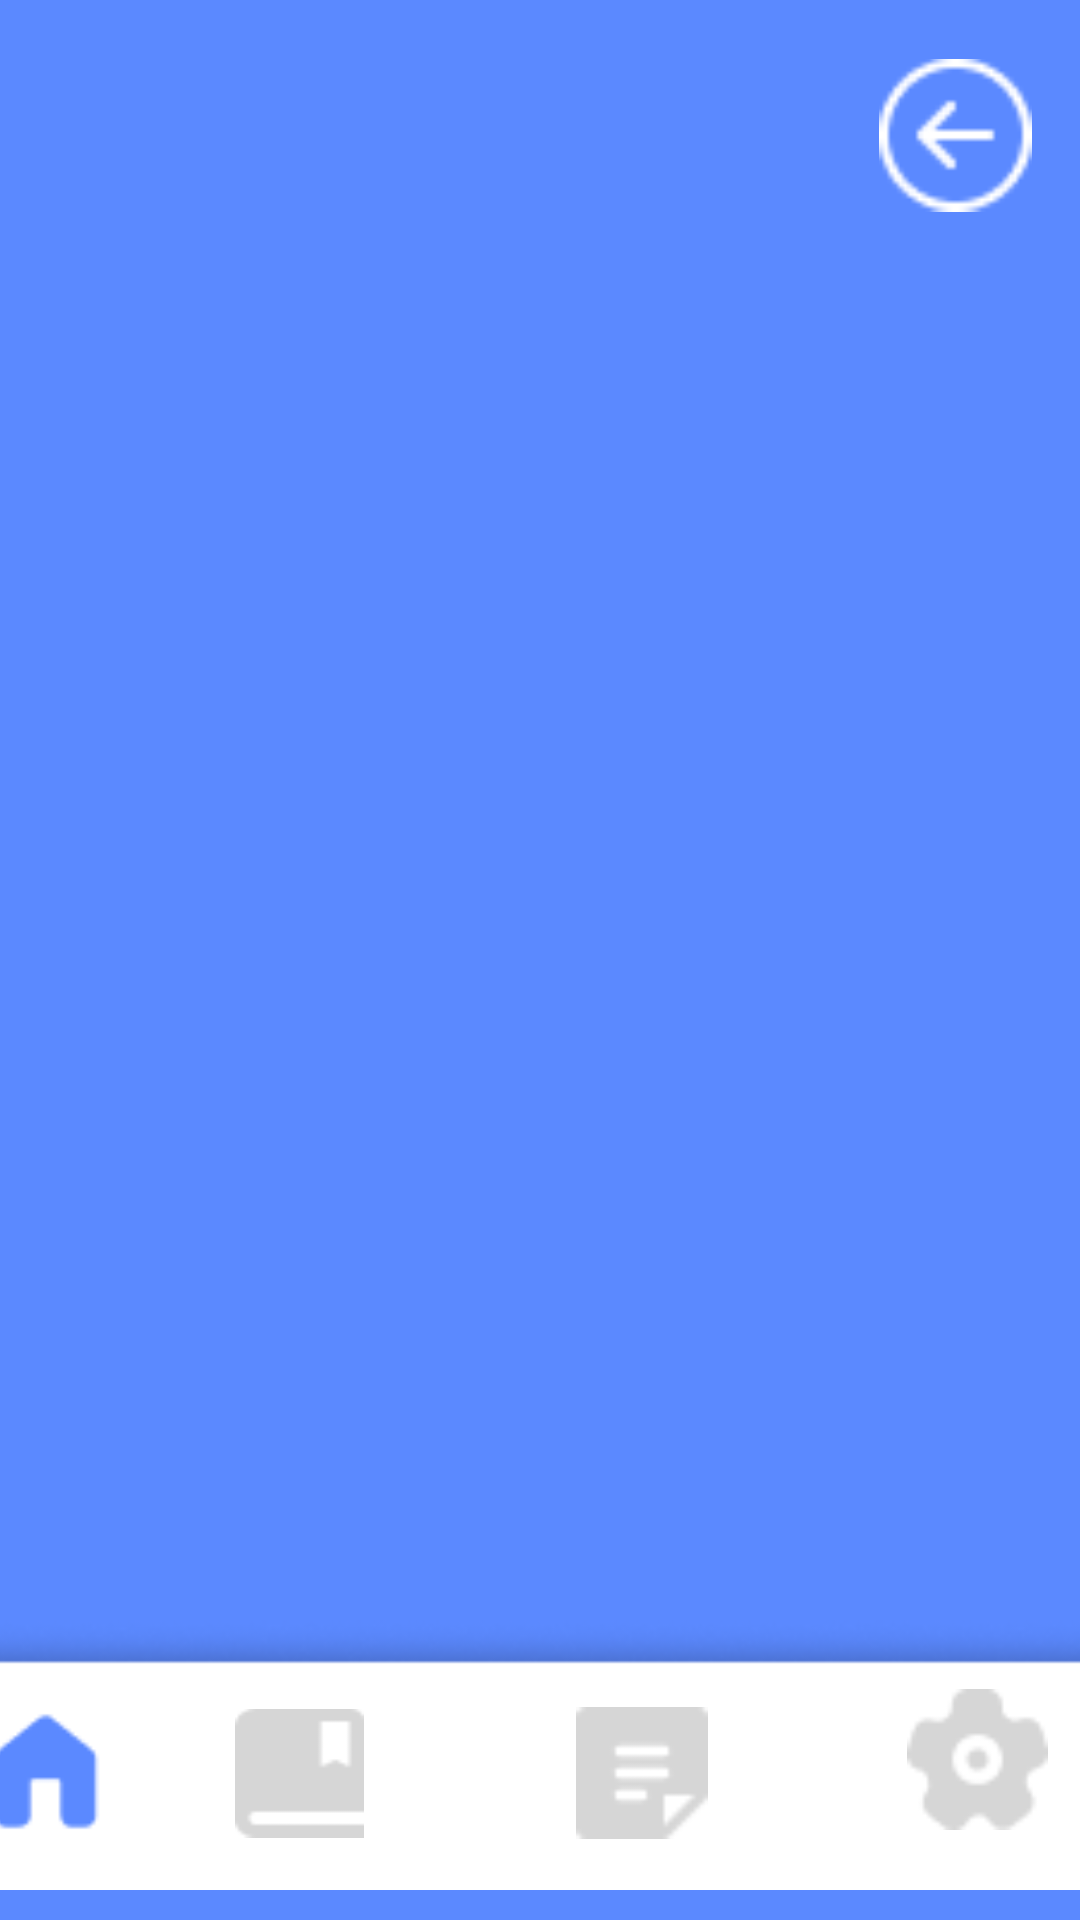

Named icons in this screenshot (1080 x 1920) and their bounding boxes, [x1,y1,x2,y2]:
arrow: [879,59,1032,212]
book: [235,1709,364,1838]
setting: [907,1689,1048,1830]
